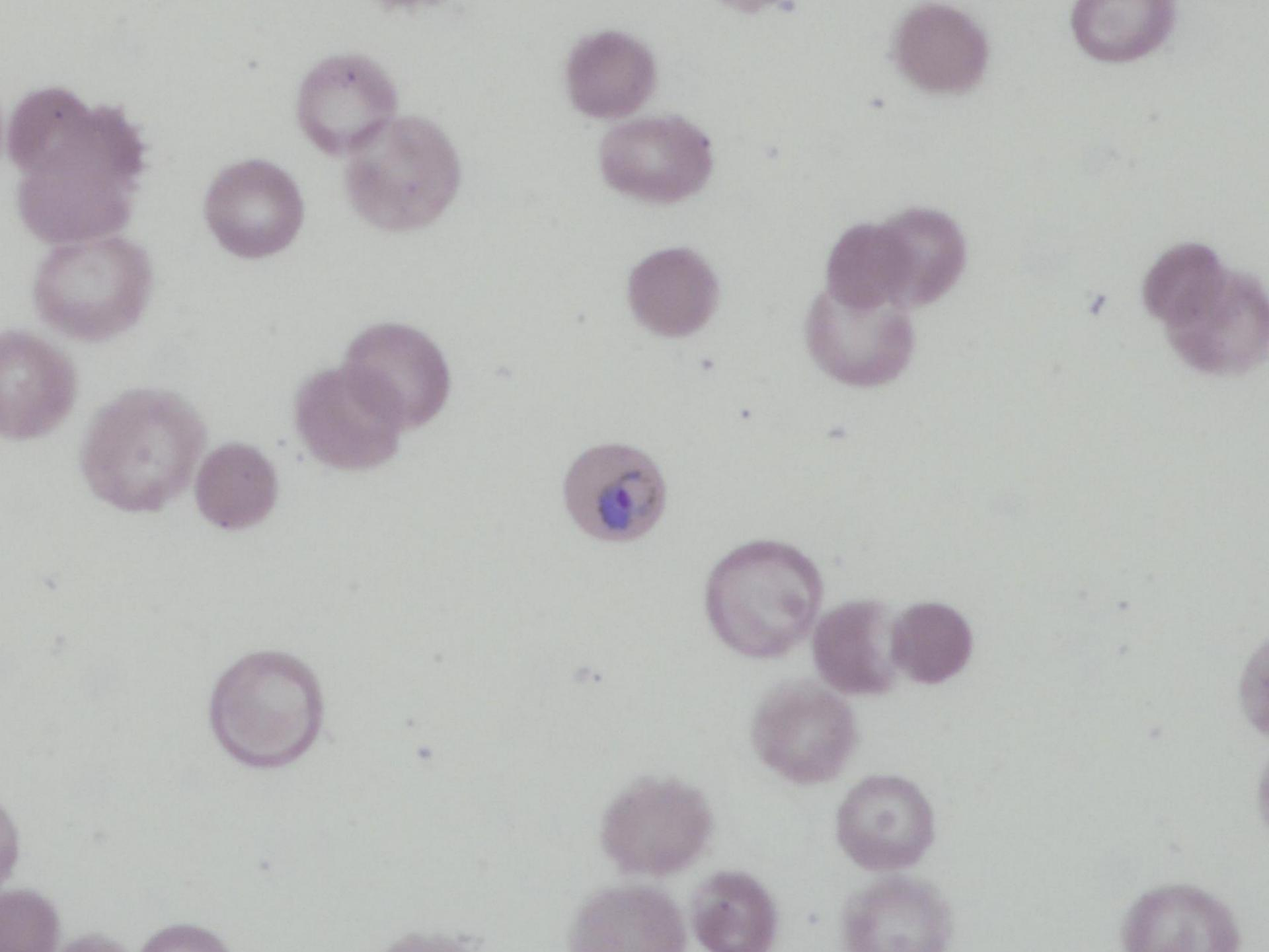Infected: (564, 445, 664, 540)
Uninfected: (81, 390, 203, 511), (17, 136, 137, 242), (345, 118, 461, 227), (707, 543, 820, 654), (211, 653, 320, 765), (34, 238, 148, 338), (343, 324, 449, 429), (804, 289, 917, 383), (600, 778, 709, 875), (751, 684, 853, 782), (1167, 274, 1268, 372), (295, 371, 397, 468), (599, 115, 709, 201), (206, 162, 303, 256), (298, 55, 395, 149), (836, 776, 934, 869), (894, 5, 991, 92), (826, 219, 915, 312), (843, 875, 948, 952), (811, 601, 899, 691), (628, 249, 717, 334), (882, 209, 966, 299), (0, 333, 75, 433), (566, 31, 654, 114), (9, 87, 96, 165), (196, 445, 277, 527), (890, 603, 972, 683), (693, 871, 775, 951), (1144, 242, 1225, 320)
